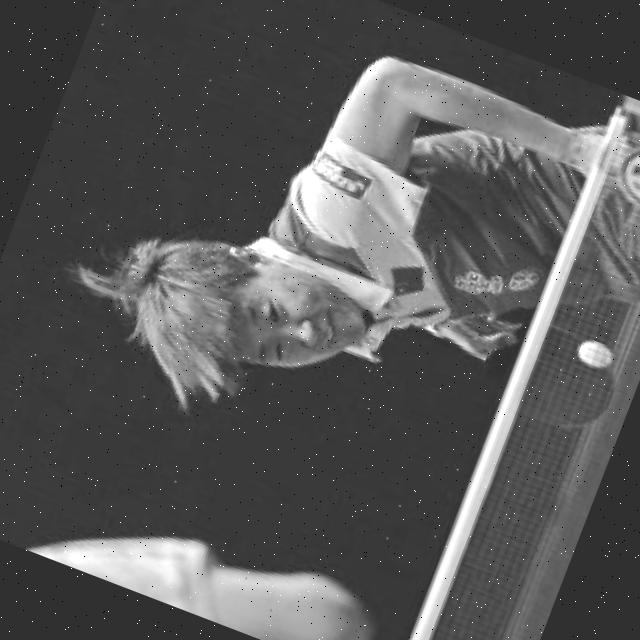ping-pong-ball: (574, 335, 618, 374)
